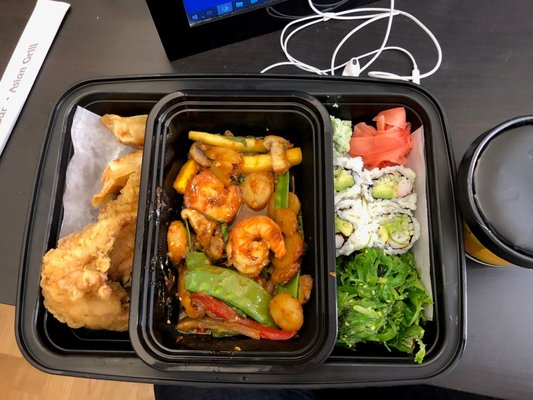sushi: (132, 90, 336, 375), (458, 114, 533, 271)
